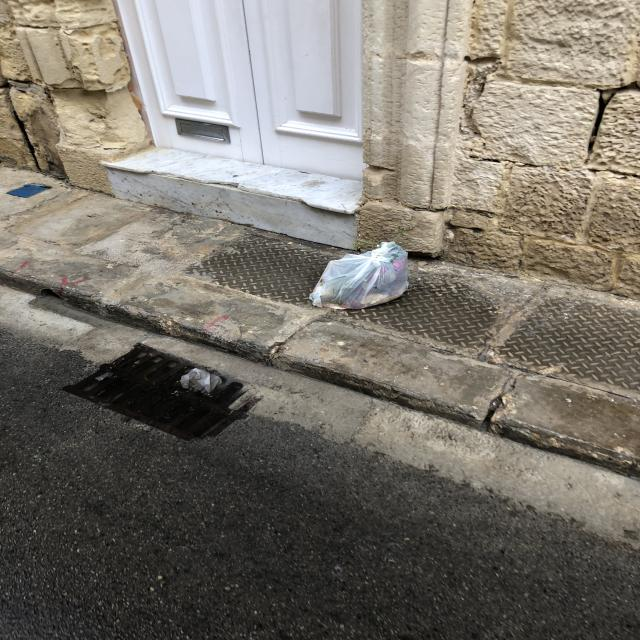Organic Waste -White Bag-: (308, 243, 417, 311)
Other: (179, 365, 224, 398)
